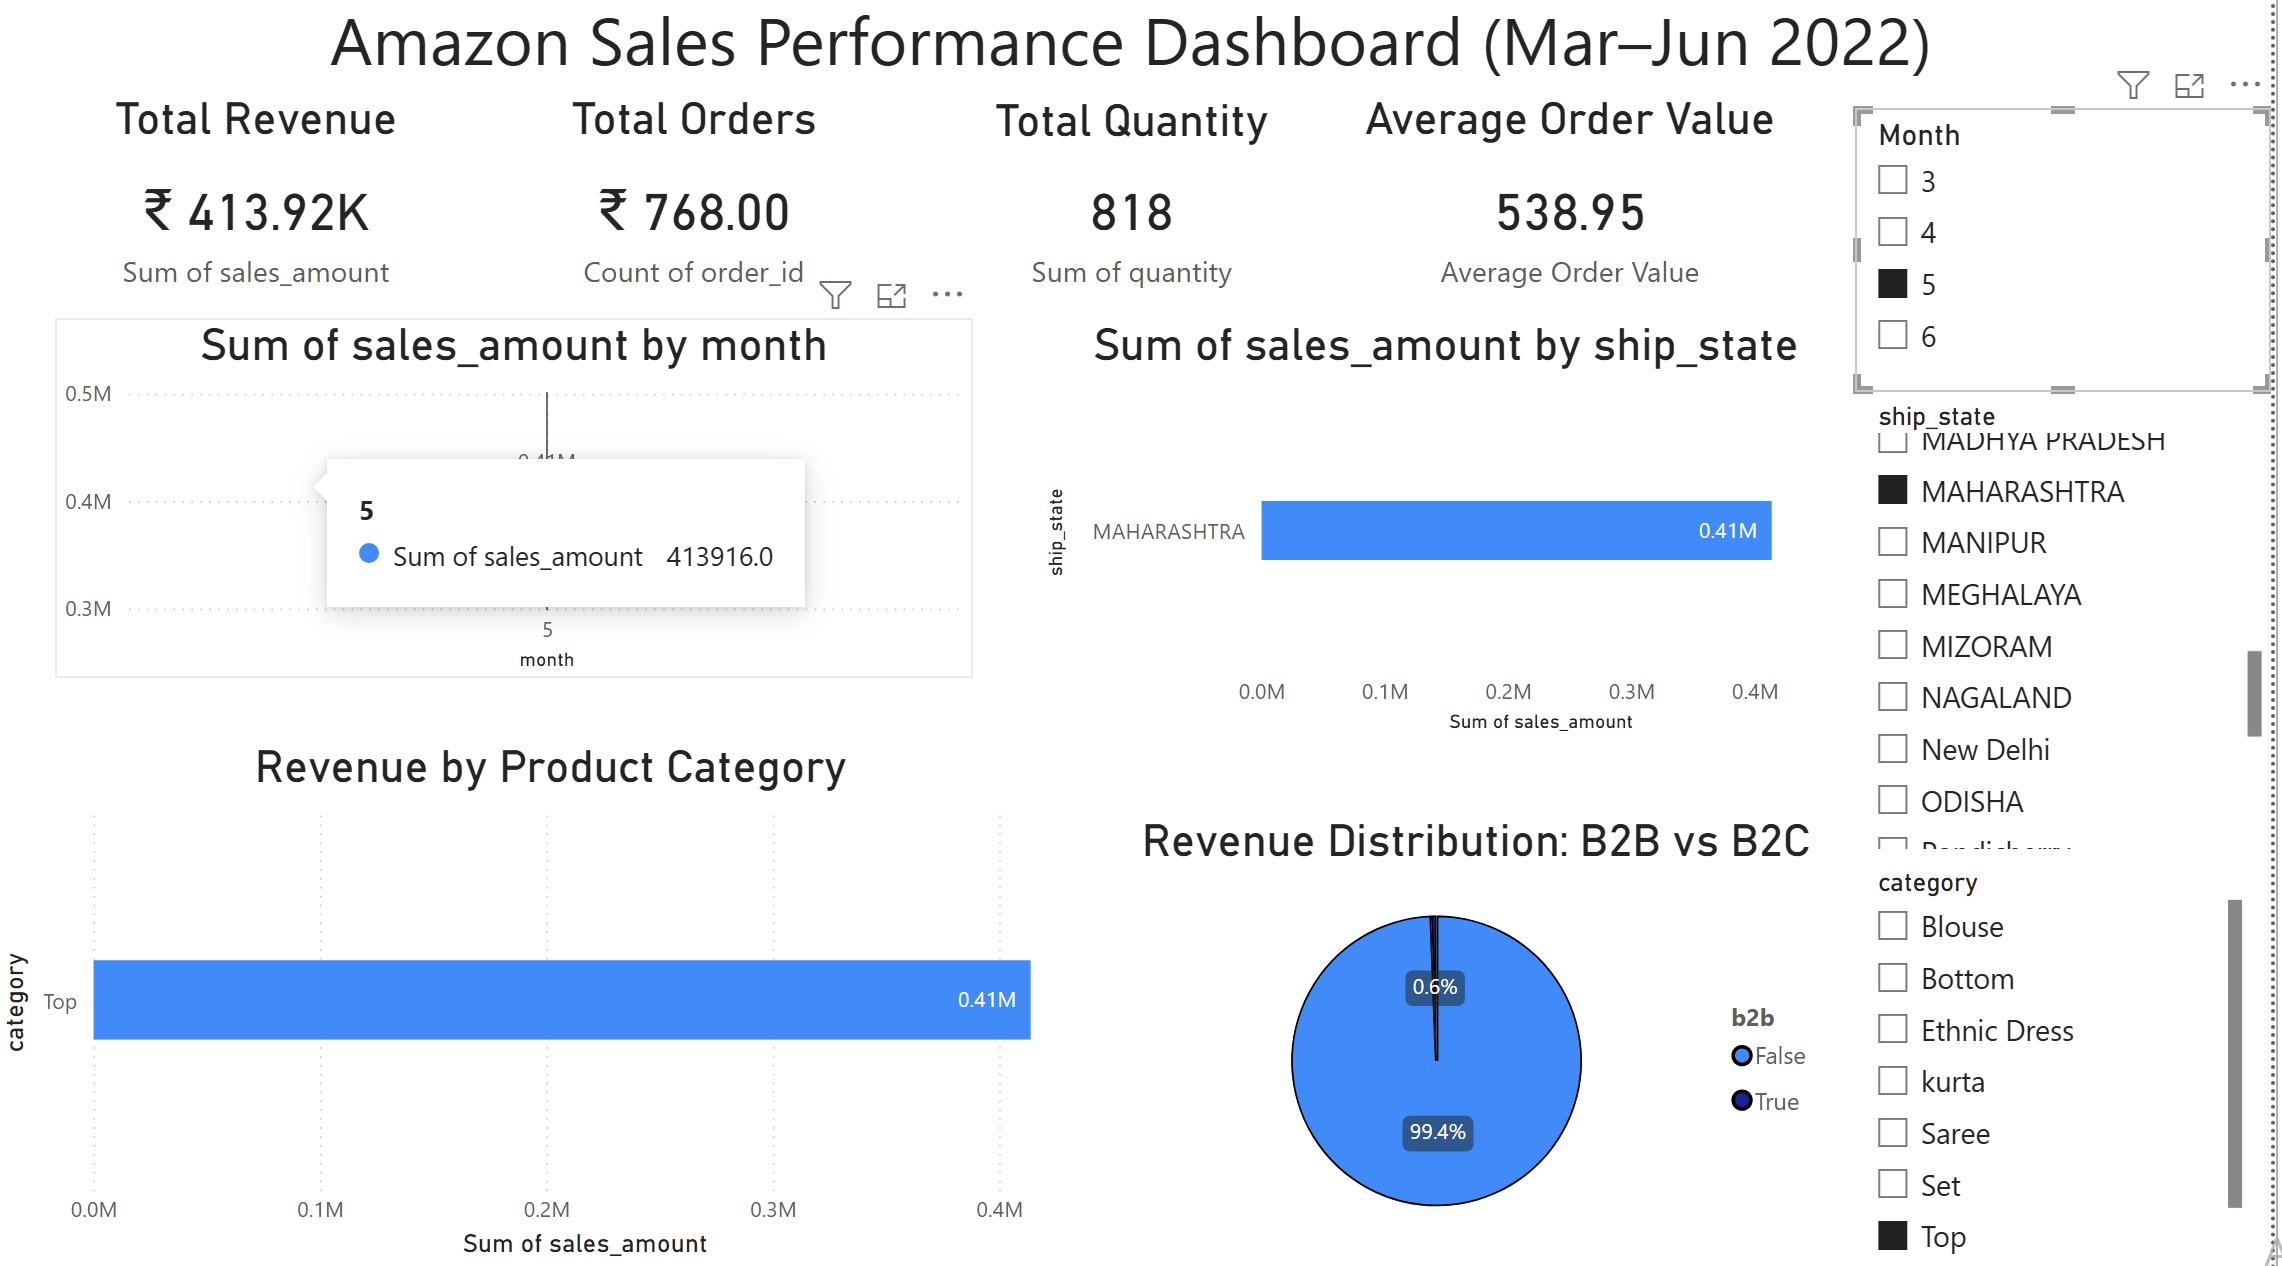

The page's visual inventory and layout, read from the dashboard file:
{"tool":"powerbi","page":{"name":"Executive Overview","canvas":[1280,720],"ordinal":5},"visuals":[{"type":"card","title":"Total Revenue","fields":{"Values":["Sum(cleaned_amazon_sales (2).sales_amount)"]},"box":[25.8,60.7,246,123.8],"z":0,"group":"g1"},{"type":"slicer","fields":{"Values":["sales.month"]},"box":[1046.9,69.6,233.6,159.5],"z":0},{"type":"slicer","fields":{"Values":["sales.ship_state"]},"box":[1046.9,229.1,233.6,261.7],"z":1},{"type":"slicer","fields":{"Values":["sales.category"]},"box":[1046.9,490.9,222.4,229.1],"z":2},{"type":"group","id":"g1","title":"Group 1","box":[25.8,60.7,984,123.6],"z":3},{"type":"lineChart","fields":{"Category":["sales.month"],"Y":["Sum(sales.sales_amount)"]},"box":[35.9,187.6,515.6,202.2],"z":4},{"type":"clusteredBarChart","fields":{"Category":["sales.ship_state"],"Y":["Sum(sales.sales_amount)"]},"box":[587.5,187.6,459.4,237],"z":5},{"type":"clusteredBarChart","title":"Revenue by Product Category","fields":{"Category":["sales.category"],"Y":["Sum(sales.sales_amount)"]},"box":[0,424.6,629,295.4],"z":6},{"type":"pieChart","title":"Revenue Distribution: B2B vs B2C","fields":{"Category":["sales.b2b"],"Y":["Sum(sales.sales_amount)"]},"box":[641.4,466.1,392,253.9],"z":7},{"type":"textbox","box":[0,0,1280.5,61.8],"z":8},{"type":"card","title":"Total Orders","fields":{"Values":["Count(cleaned_amazon_sales (2).order_id)"]},"box":[271.8,60.7,246,123.8],"z":1000,"group":"g1"},{"type":"card","title":"Total Quantity","fields":{"Values":["Sum(sales.quantity)"]},"box":[517.1,62.3,248,121.2],"z":2000,"group":"g1"},{"type":"card","title":"Average Order Value","fields":{"Values":["sales.Average Order Value"]},"box":[763.7,60.7,246,123.8],"z":3000,"group":"g1"}]}

Visuals, with their boxes on the page's 1280x720 design canvas (x1, y1, x2, y2). These are canvas units, not pixel positions in the 2282x1266 screenshot, which may show the page scaled, cropped or inside an application window:
"Total Revenue" card: (x1=26, y1=61, x2=272, y2=184)
slicer - sales.month: (x1=1047, y1=70, x2=1280, y2=229)
slicer - sales.ship_state: (x1=1047, y1=229, x2=1280, y2=491)
slicer - sales.category: (x1=1047, y1=491, x2=1269, y2=720)
"Group 1" group: (x1=26, y1=61, x2=1010, y2=184)
lineChart - sales.month x Sum(sales.sales_amount): (x1=36, y1=188, x2=552, y2=390)
clusteredBarChart - sales.ship_state x Sum(sales.sales_amount): (x1=588, y1=188, x2=1047, y2=425)
"Revenue by Product Category" clusteredBarChart: (x1=0, y1=425, x2=629, y2=720)
"Revenue Distribution: B2B vs B2C" pieChart: (x1=641, y1=466, x2=1033, y2=720)
textbox: (x1=0, y1=0, x2=1280, y2=62)
"Total Orders" card: (x1=272, y1=61, x2=518, y2=184)
"Total Quantity" card: (x1=517, y1=62, x2=765, y2=184)
"Average Order Value" card: (x1=764, y1=61, x2=1010, y2=184)
